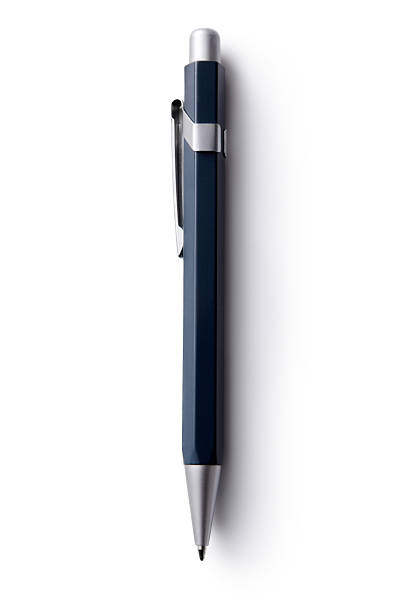pen: (150, 17, 291, 596)
